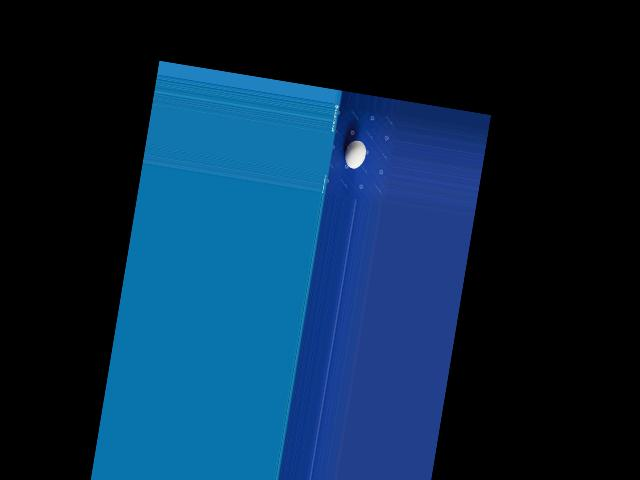egg: (342, 139, 367, 170)
